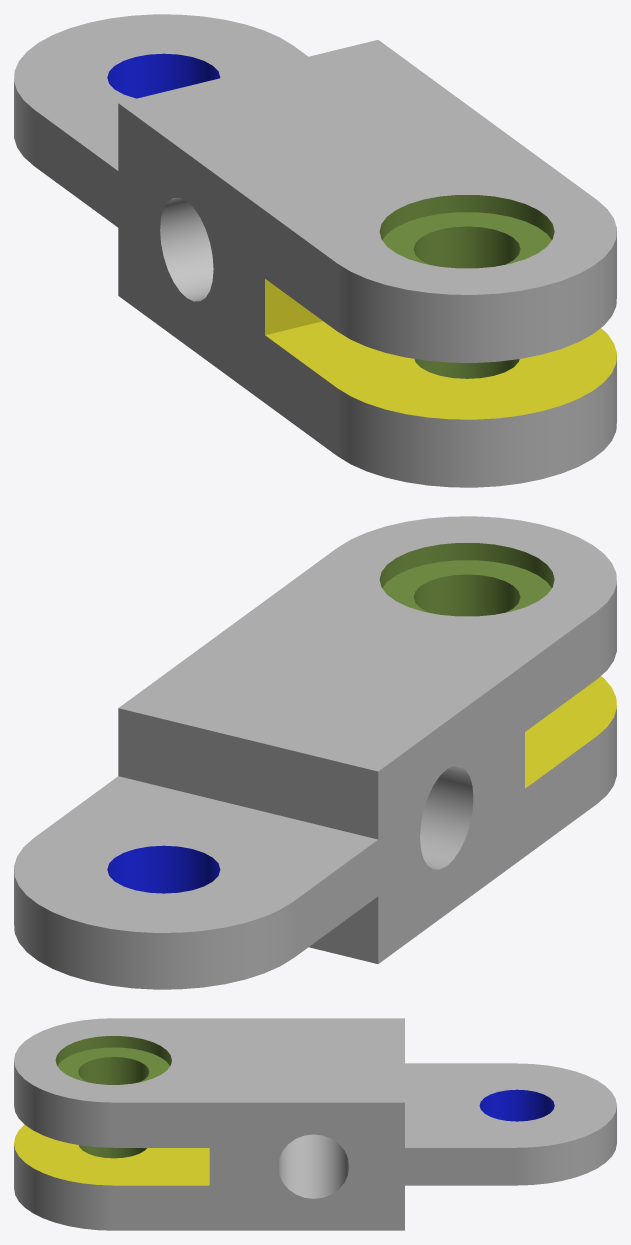
3 views of the same model, one above another, from view 1: azimuth 30°, elevation 25°; view 2: azimuth 150°, elevation 25°; view 3: azimuth 270°, elevation 25° (orthographic). The views are drawn at different scales.
Parts seen in each view (by area): view 1: Solid2; view 2: Solid2; view 3: Solid2.
Boxes of the visible parts, x1,y1,x2,y2 form: Solid2: (14, 14, 616, 487); Solid2: (14, 516, 616, 989); Solid2: (14, 1018, 616, 1230).
Bounding box in the file's own units: 0.048 × 0.034 × 0.145.
